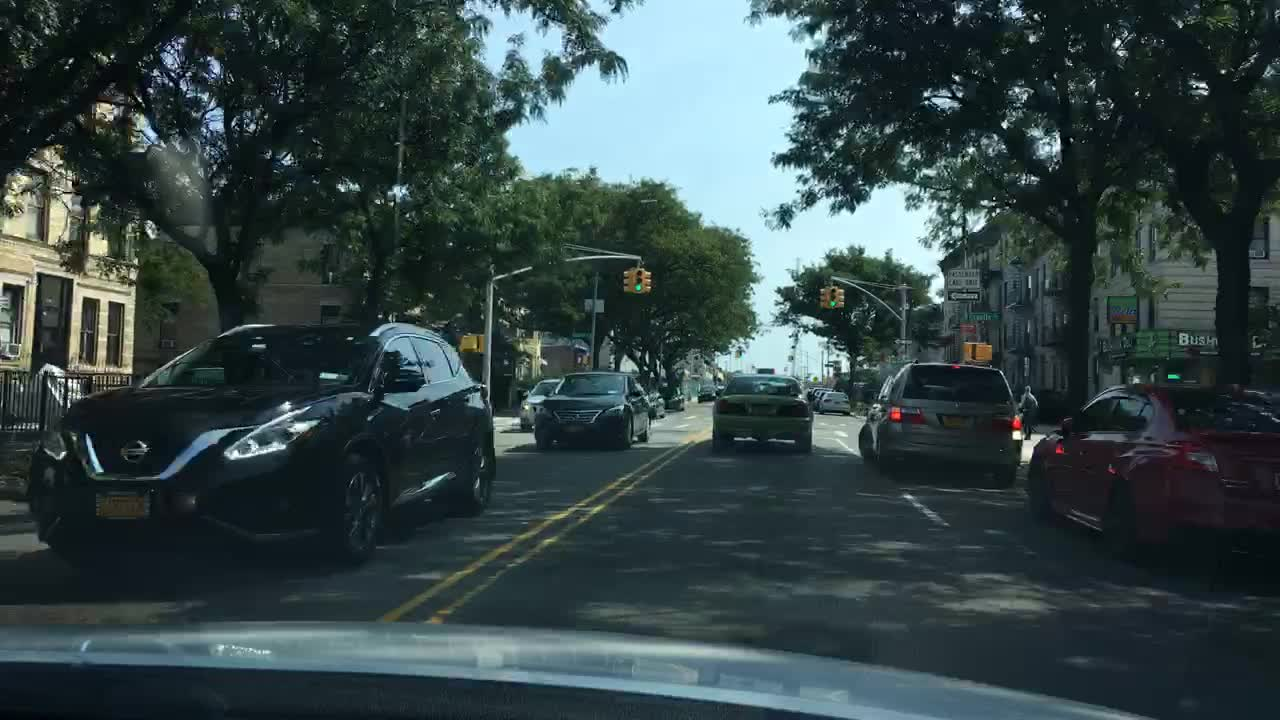car: (36, 317, 499, 565), (1020, 377, 1277, 548), (858, 359, 1025, 478), (530, 367, 653, 448), (708, 364, 814, 453), (517, 375, 563, 432), (656, 382, 687, 410), (641, 387, 668, 416), (820, 390, 849, 415), (805, 384, 829, 401), (814, 390, 831, 410), (699, 384, 714, 404), (893, 336, 914, 345)
person: (1014, 382, 1037, 440)
traffic light: (962, 340, 992, 363), (459, 331, 485, 353), (631, 269, 644, 294), (641, 268, 653, 292), (826, 284, 838, 307), (621, 269, 632, 294), (833, 286, 845, 307), (816, 284, 827, 306)
traffic sign: (942, 267, 982, 289), (942, 289, 980, 300), (965, 309, 994, 321), (582, 297, 605, 311)
